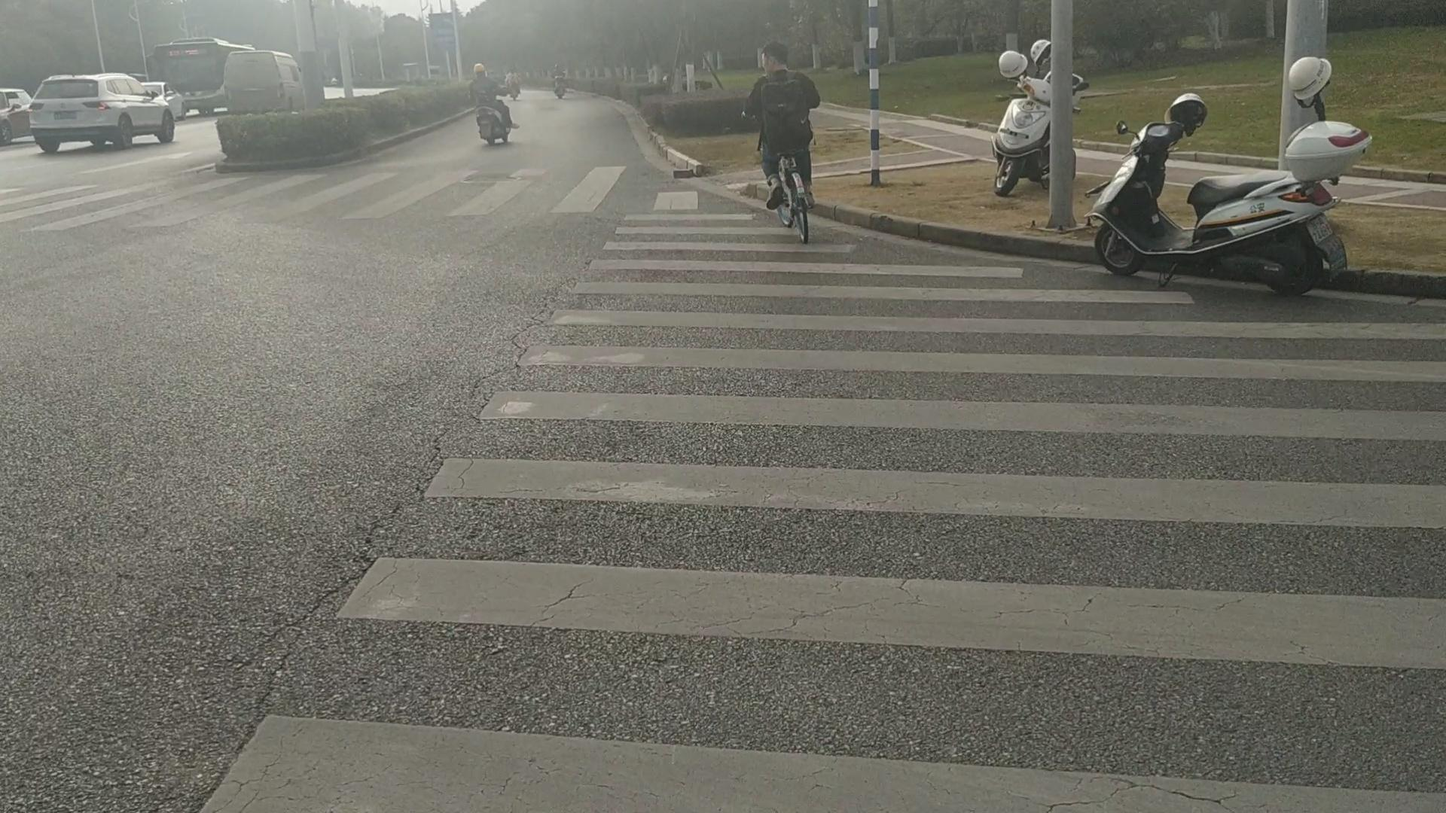car: (27, 72, 180, 154), (148, 40, 306, 118), (222, 49, 307, 114), (0, 85, 34, 145)
